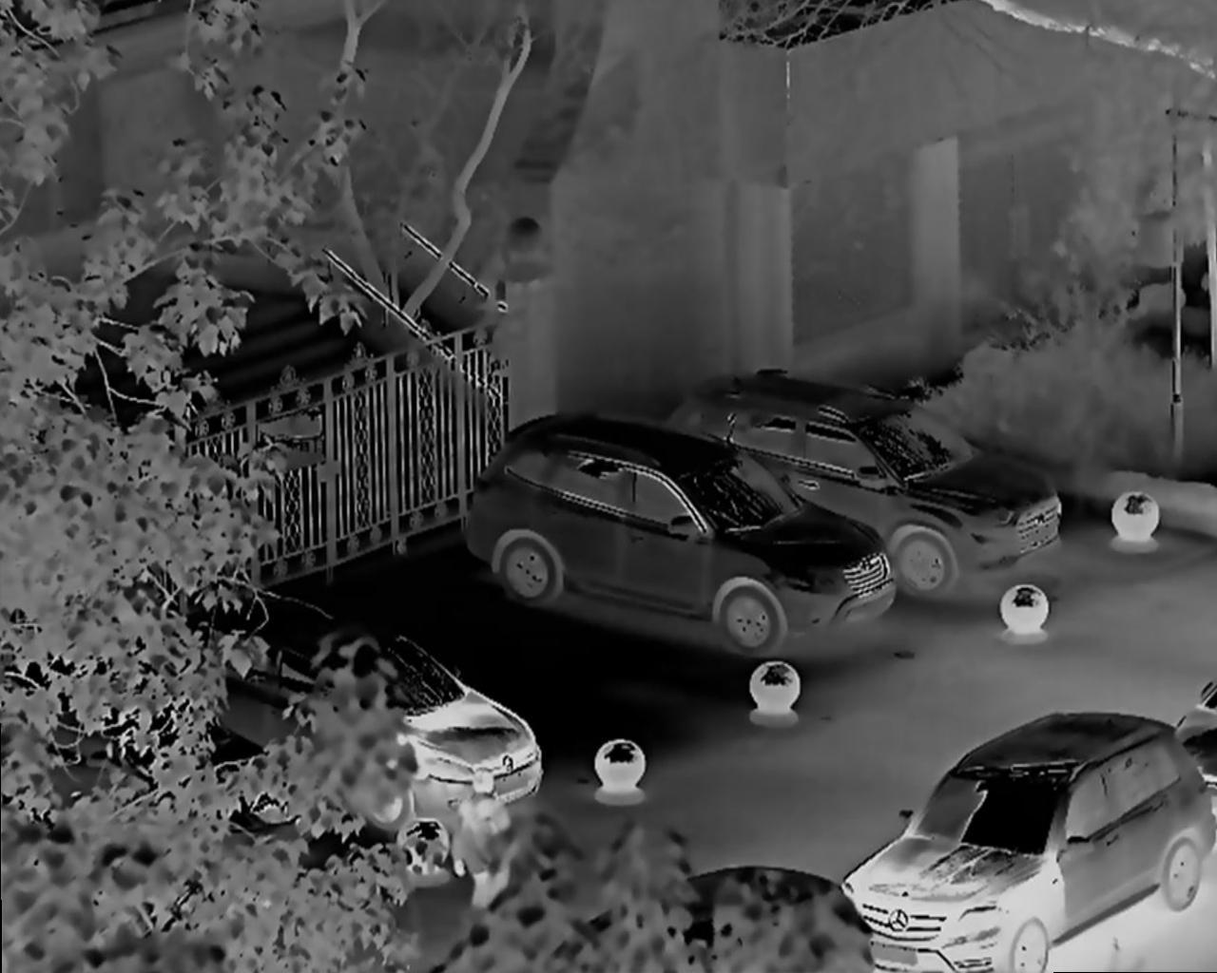person: (450, 766, 521, 927)
